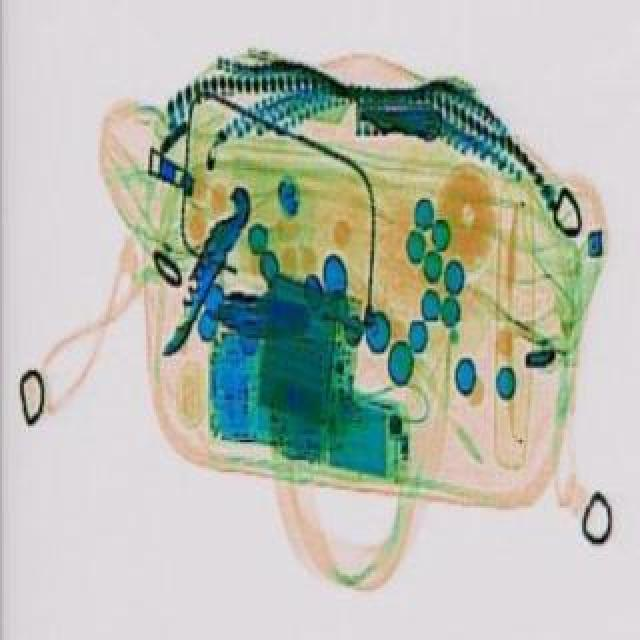knife: (150, 180, 258, 358)
